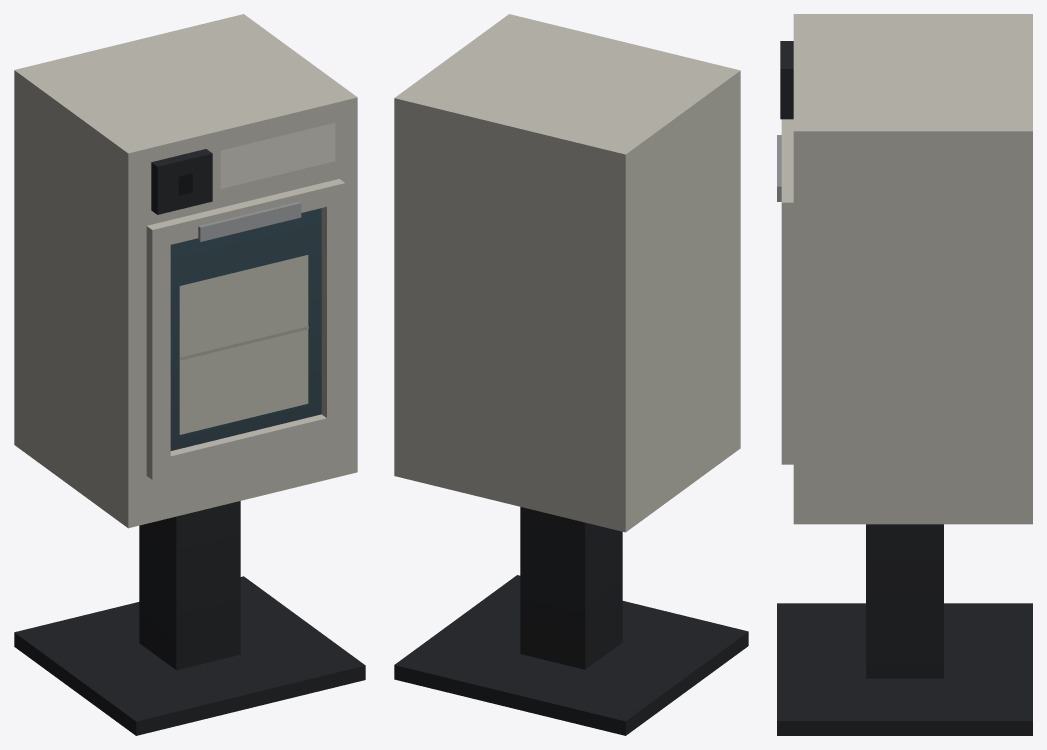
The model's file is street.newsbox.white.glb.
3 renders of one model, left to right at view 1: azimuth 30°, elevation 25°; view 2: azimuth 150°, elevation 25°; view 3: azimuth 270°, elevation 25°, orthographic. The views are drawn at different scales.
Visible parts, largest first — view 1: street_newsbox_white; view 2: street_newsbox_white; view 3: street_newsbox_white.
Boxes of the visible parts, bbox=[...] form: street_newsbox_white: bbox=[14, 14, 365, 735]; street_newsbox_white: bbox=[394, 14, 748, 735]; street_newsbox_white: bbox=[777, 14, 1032, 735].
Size of what is drawn, in the model's own units: 0.5 by 1.2 by 0.46.
